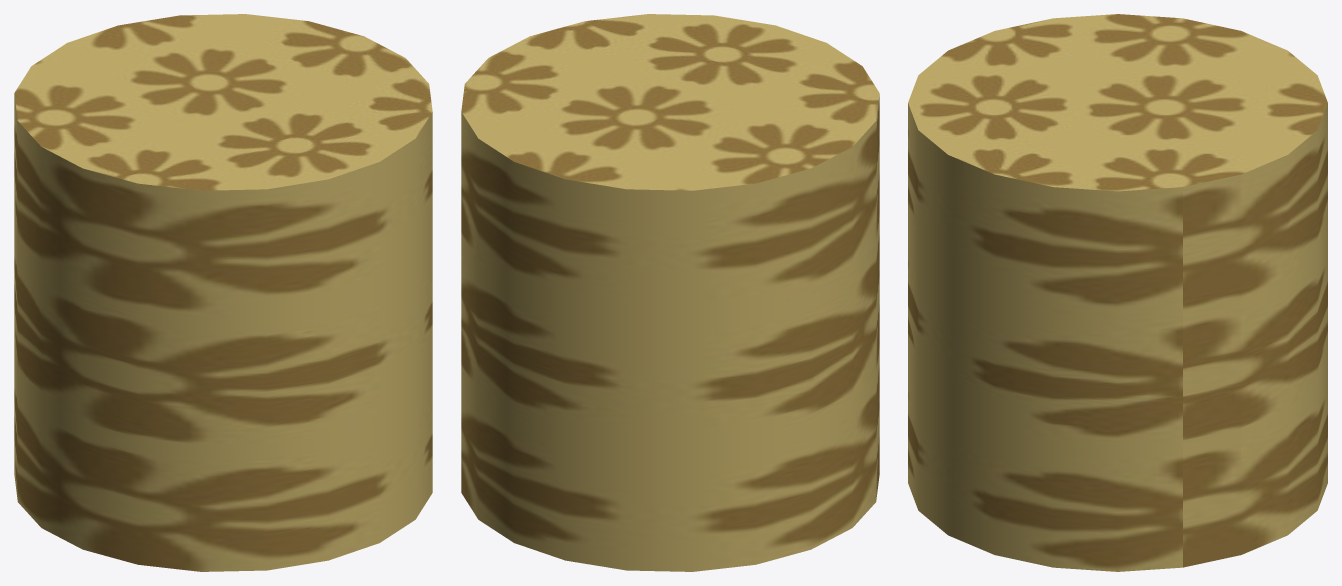
File: Objeto1.obj
3 views of the same model, side by side, from view 1: azimuth 30°, elevation 25°; view 2: azimuth 150°, elevation 25°; view 3: azimuth 270°, elevation 25° (orthographic).
Visible parts, largest first — view 1: polySurface142 Librero:polySurface14; view 2: polySurface142 Librero:polySurface14; view 3: polySurface142 Librero:polySurface14.
Boxes of the visible parts, x1=… form: polySurface142 Librero:polySurface14: x1=14, y1=14, x2=432, y2=571; polySurface142 Librero:polySurface14: x1=461, y1=14, x2=879, y2=571; polySurface142 Librero:polySurface14: x1=908, y1=14, x2=1327, y2=571.
Bounding box in the file's own units: 0.5341 × 0.5341 × 0.5341.
1 material, 1 textured.
